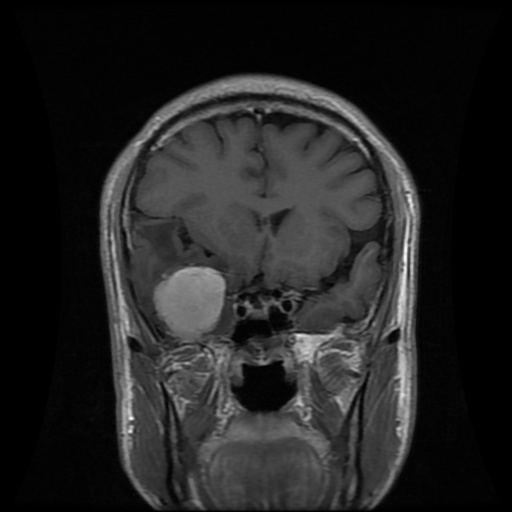meningioma: (155, 266, 224, 339)
